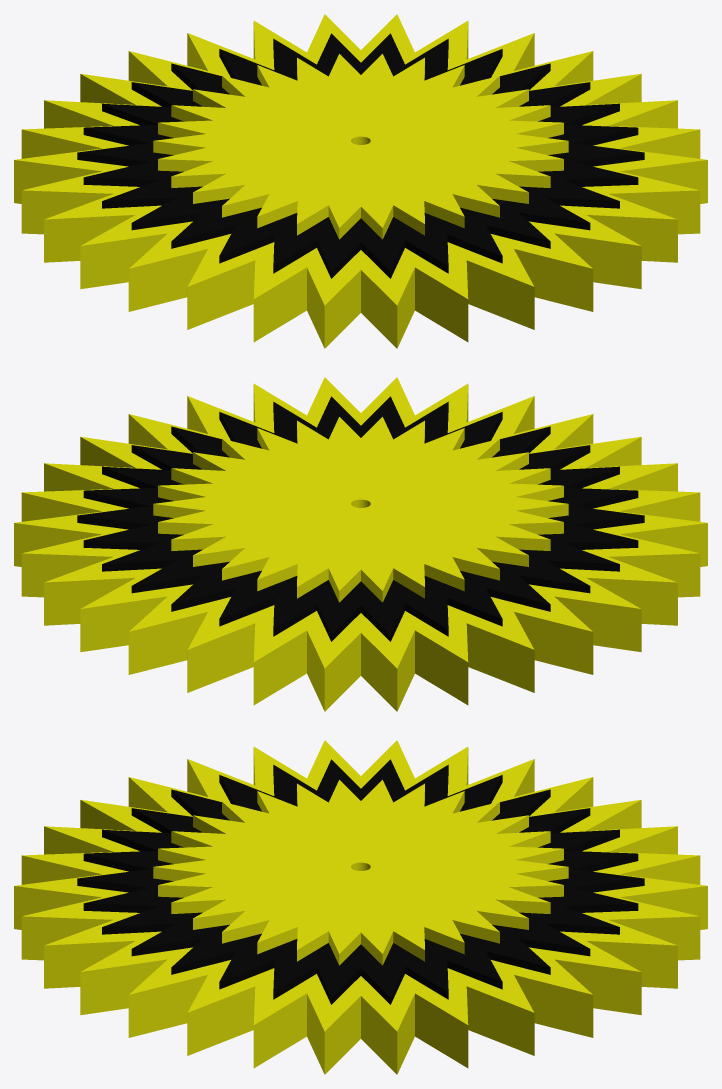
The model's file is Gear1.fbx.
3 renders of one model, top to bottom at view 1: azimuth 30°, elevation 25°; view 2: azimuth 150°, elevation 25°; view 3: azimuth 270°, elevation 25°, orthographic.
Visible parts, largest first — view 1: pGear4; view 2: pGear4; view 3: pGear4.
Boxes of the visible parts, x1,y1,x2,y2 form: pGear4: [14, 14, 707, 348]; pGear4: [14, 377, 707, 711]; pGear4: [14, 740, 707, 1074].
Size of the model in its own units: 12.48 by 1.24 by 12.55.
